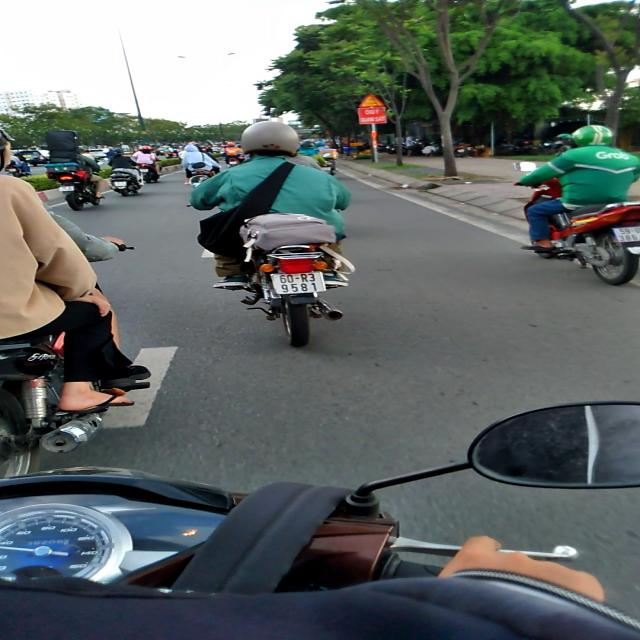W.245a: (358, 93, 386, 108)
